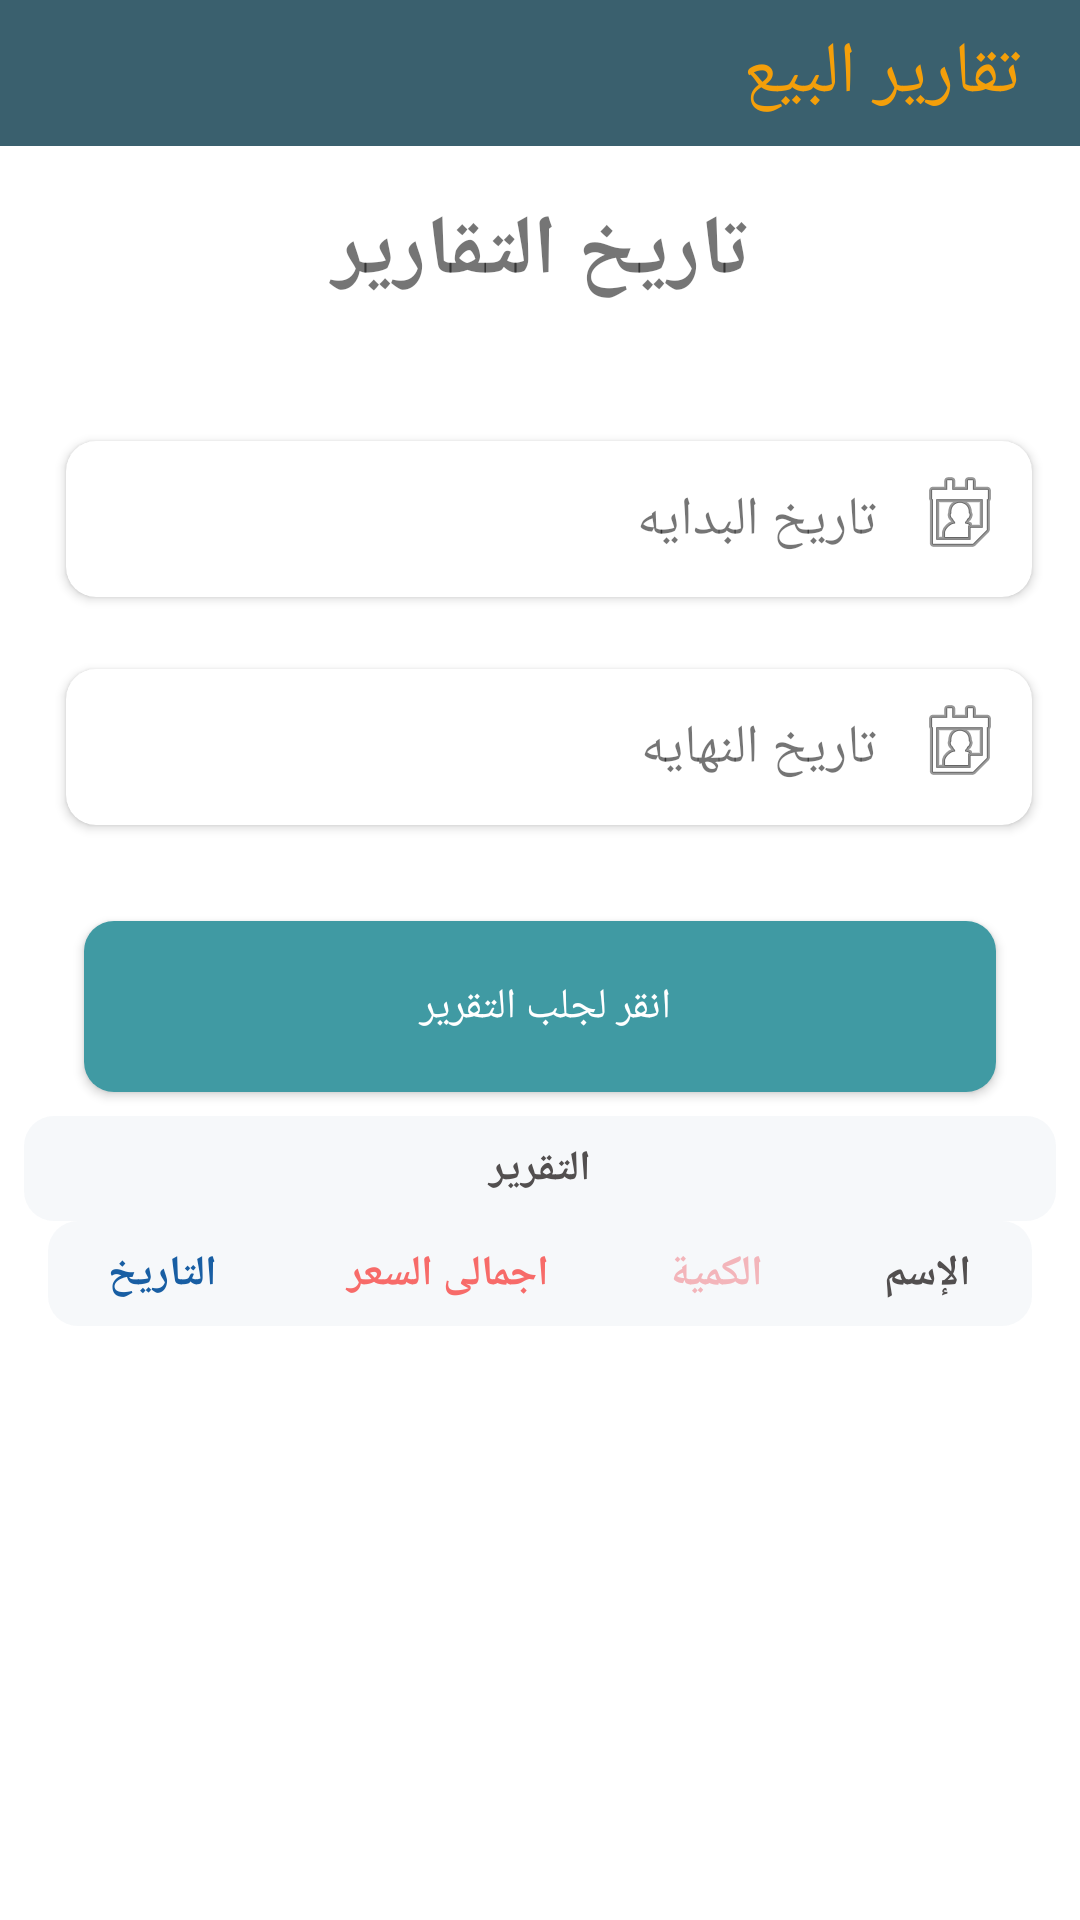

Icon click points for this 1080×1920 phone screenshot, format (x,y):
calendar: (960,512), (960,740)
